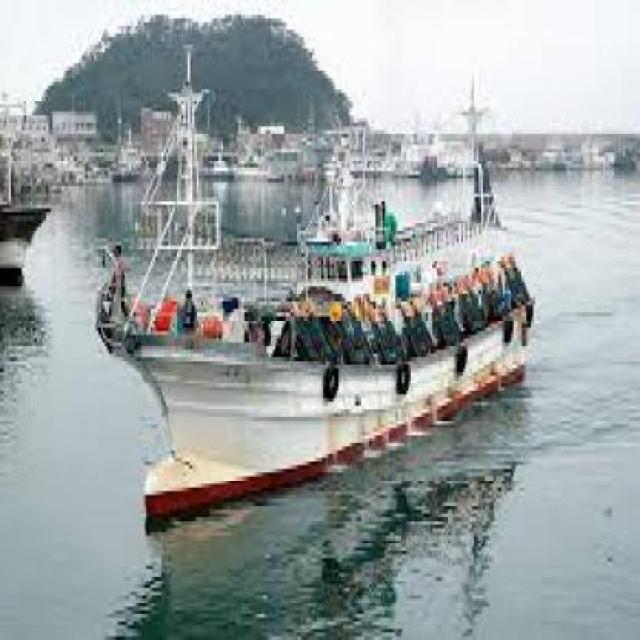fish-b: (80, 139, 546, 545)
